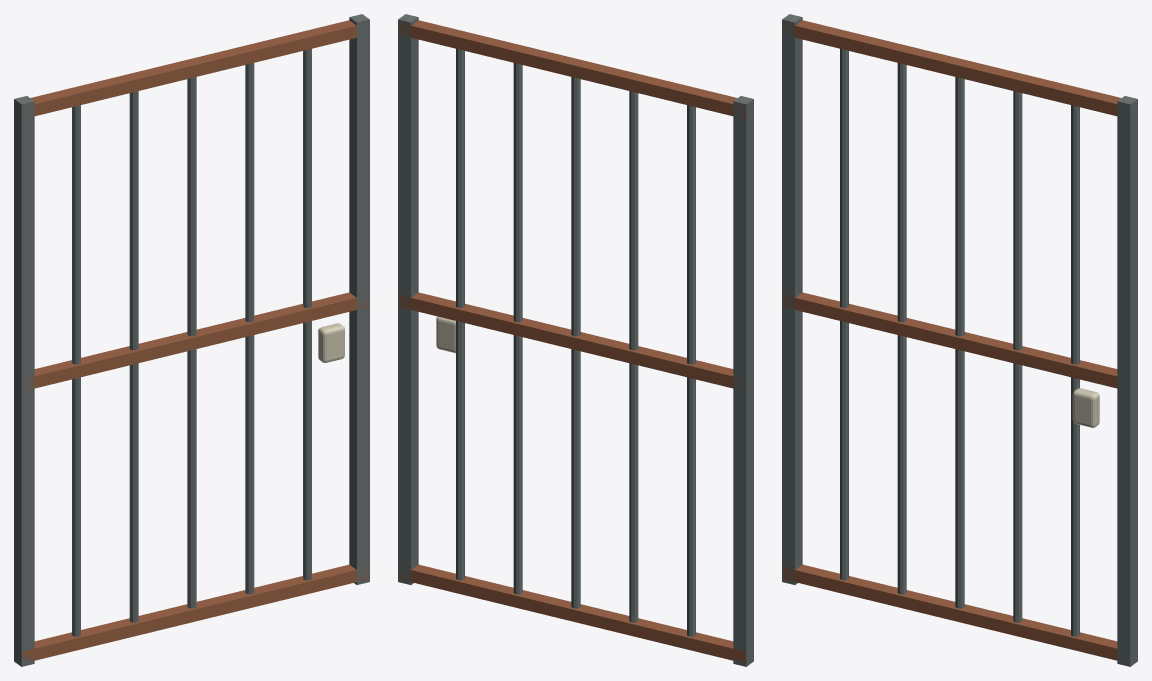
File: cage_door.glb
3 views of the same model, side by side, from view 1: azimuth 30°, elevation 25°; view 2: azimuth 150°, elevation 25°; view 3: azimuth 330°, elevation 25° (orthographic).
Visible parts, largest first — view 1: cage_door; view 2: cage_door; view 3: cage_door.
Part boxes in pixels (left/top/right/bottom): cage_door: left=14, top=14, right=369, bottom=666; cage_door: left=398, top=14, right=753, bottom=666; cage_door: left=782, top=14, right=1137, bottom=666.
Bounding box in the file's own units: 1.2 × 1.86 × 0.0825.
